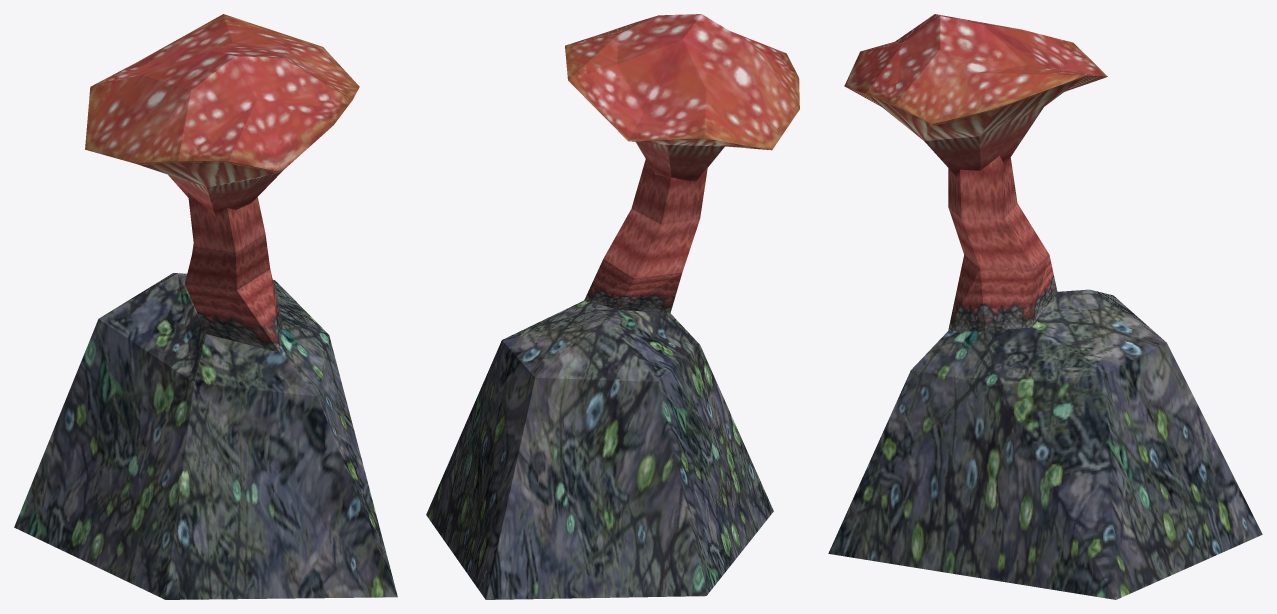
Rendered from C4SNMUSHROOMB.obj.
3 renders of one model, left to right at view 1: azimuth 30°, elevation 25°; view 2: azimuth 150°, elevation 25°; view 3: azimuth 270°, elevation 25°, orthographic. The views are drawn at different scales.
Visible parts, largest first — view 1: Node 0; view 2: Node 0; view 3: Node 0.
Part boxes in pixels (x1,y1,x2,y2): Node 0: (14, 14, 397, 599); Node 0: (426, 14, 799, 599); Node 0: (828, 14, 1262, 599).
Bounding box in the file's own units: 1.29 × 2.03 × 1.63.
Materials: 2 (2 with a texture image).
